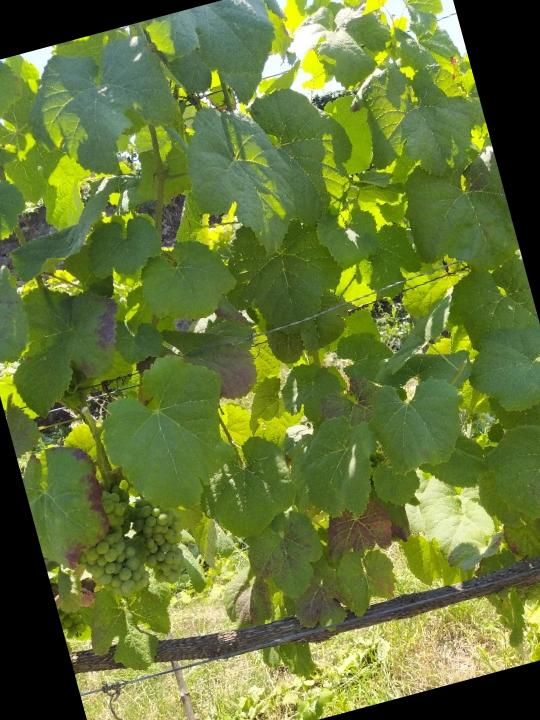grape: (61, 482, 155, 608), (129, 489, 195, 590)
